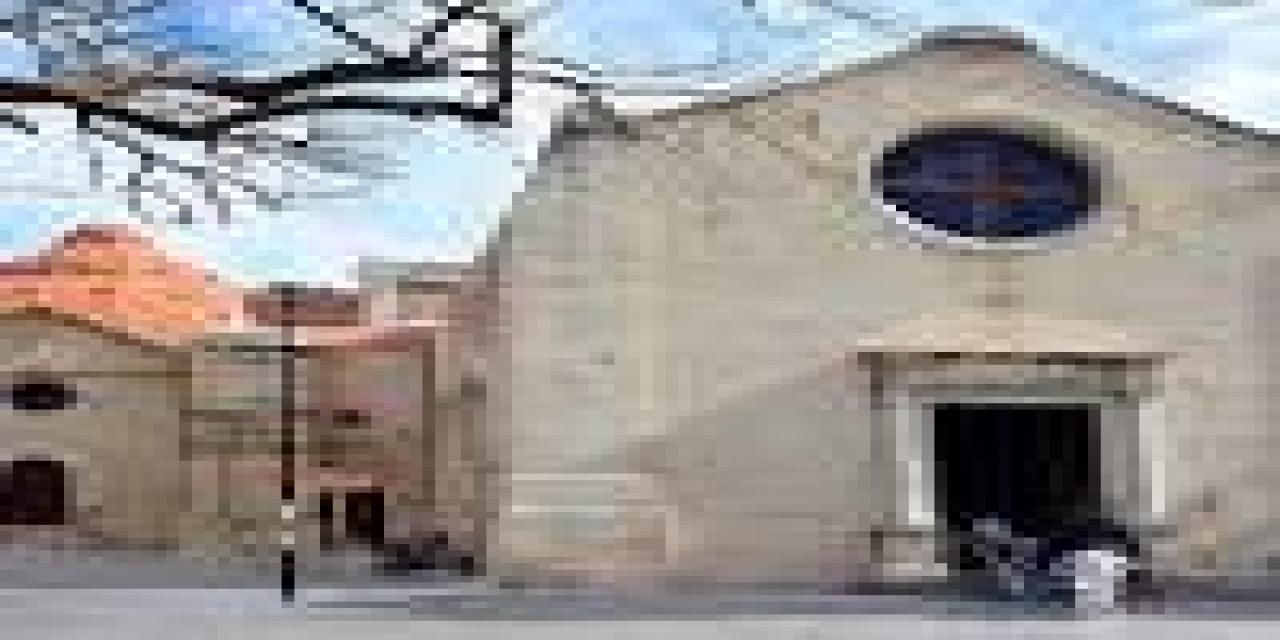Agia Aikaterini: (2, 32, 1280, 615)
